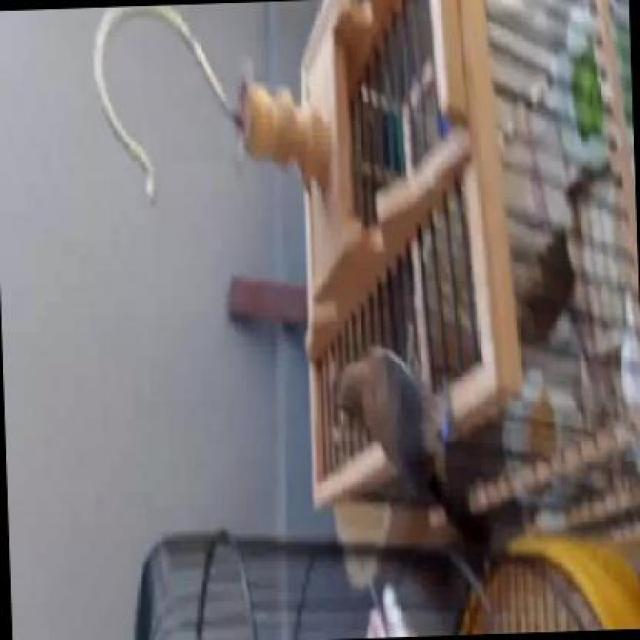Bird: (314, 352, 490, 525)
